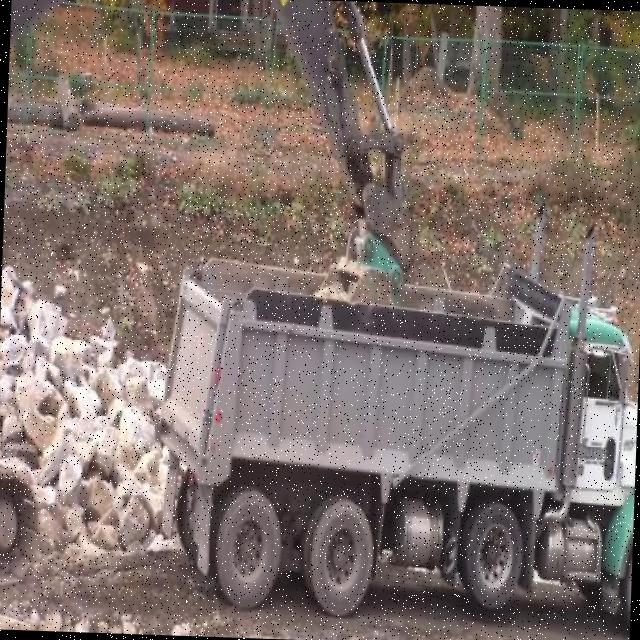Dump Truck: (135, 250, 640, 640)
